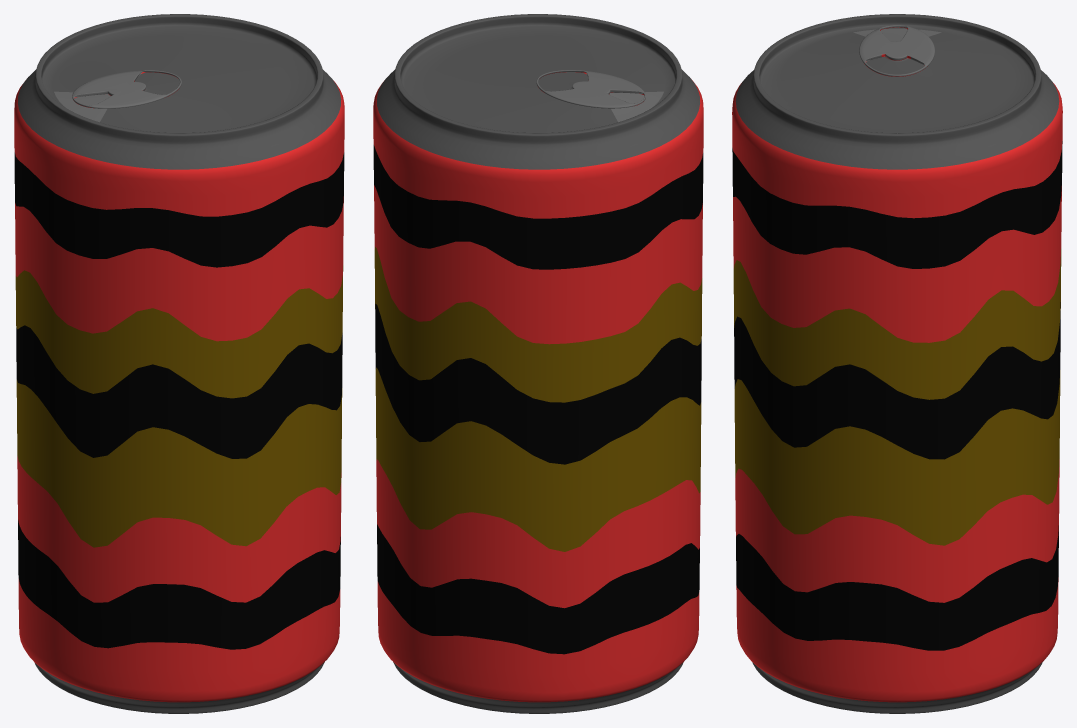
File: appleenerg.fbx
3 renders of one model, left to right at view 1: azimuth 30°, elevation 25°; view 2: azimuth 150°, elevation 25°; view 3: azimuth 270°, elevation 25°, orthographic.
Visible parts, largest first — view 1: Цилиндр; view 2: Цилиндр; view 3: Цилиндр.
Boxes of the visible parts, x1,y1,x2,y2 form: Цилиндр: (14, 14, 344, 713); Цилиндр: (373, 14, 703, 713); Цилиндр: (732, 14, 1062, 713).
Bounding box in the file's own units: 269 × 517 × 269.
